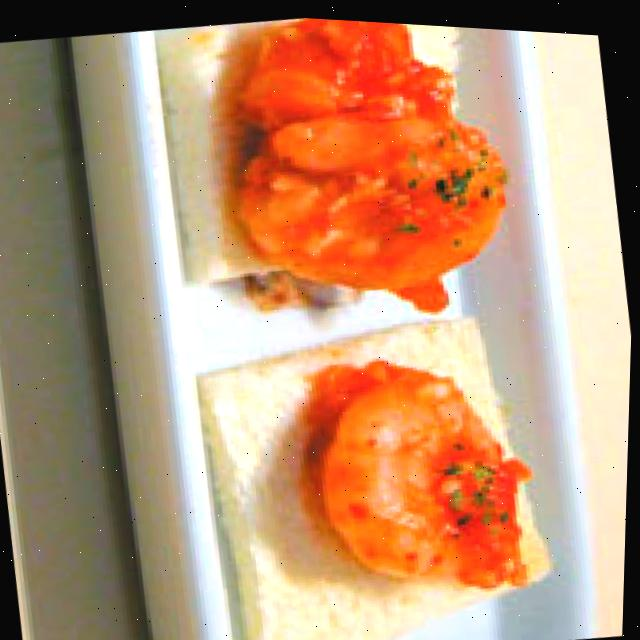熟制海鲜: (198, 10, 548, 341)
